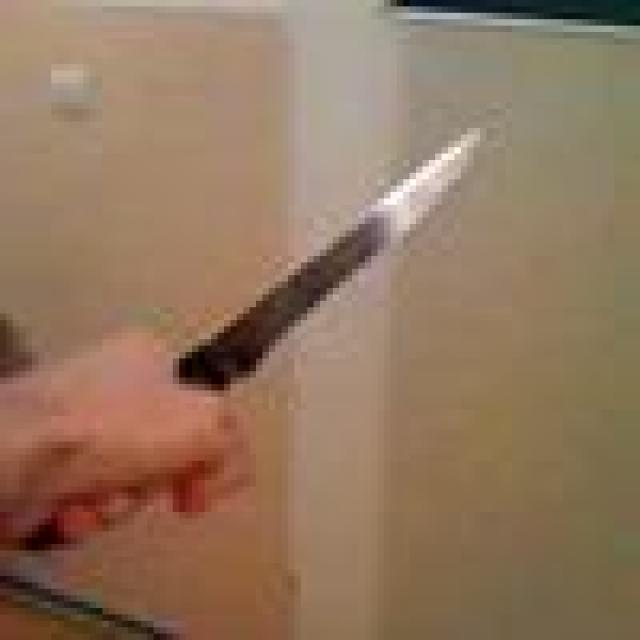knife: (176, 129, 482, 387)
